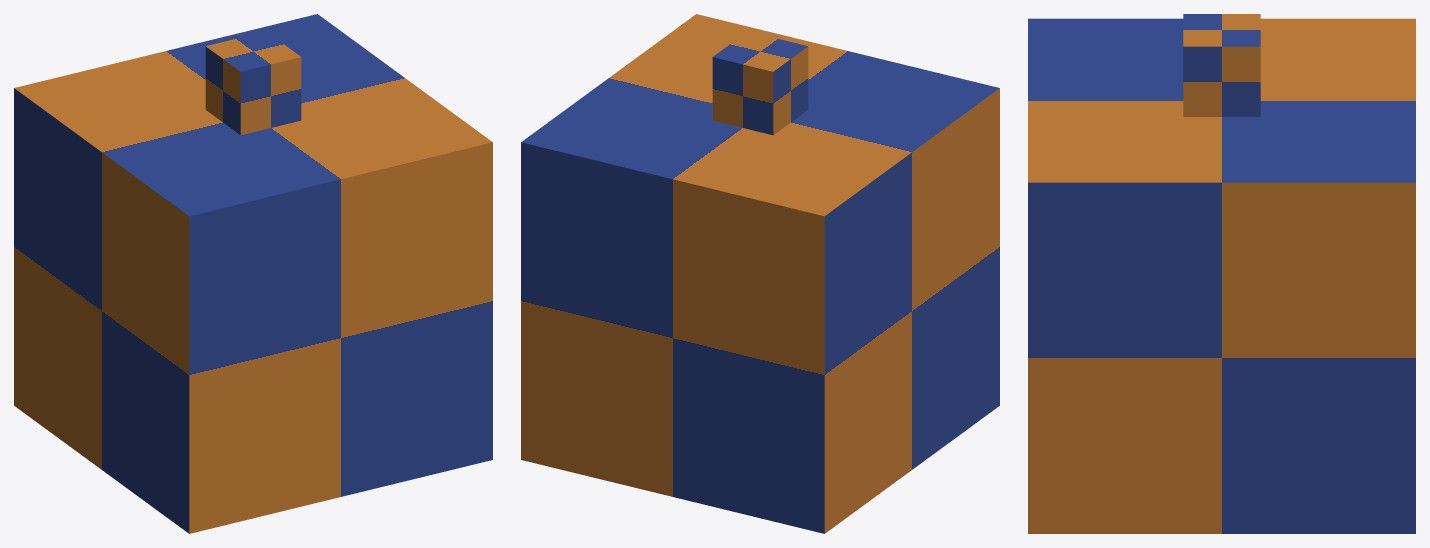
3 renders of one model, left to right at view 1: azimuth 30°, elevation 25°; view 2: azimuth 150°, elevation 25°; view 3: azimuth 270°, elevation 25°, orthographic. The views are drawn at different scales.
Parts seen in each view (by area): view 1: box, lid; view 2: box, lid; view 3: box, lid.
Boxes of the visible parts, box(x1,y1,x2,y2) form: box: box(14, 14, 492, 533); lid: box(205, 31, 301, 135); box: box(521, 14, 999, 533); lid: box(712, 31, 808, 135); box: box(1028, 18, 1415, 533); lid: box(1183, 14, 1260, 116).
Size of the model in its own units: 0.5 by 0.6 by 0.5.
Materials: 1 (1 with a texture image).
